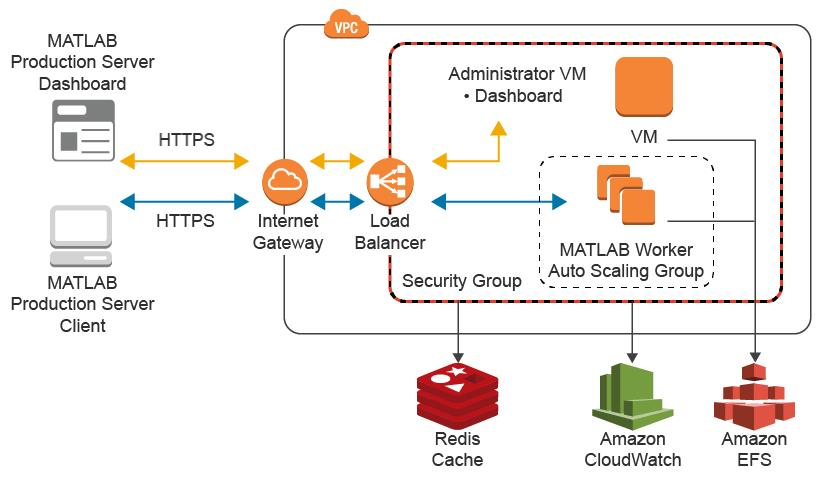Cloud Watch: (589, 358, 678, 431)
EC2: (589, 158, 664, 231)
EFS: (709, 361, 800, 432)
ELB: (365, 154, 418, 208)
Internet: (256, 152, 310, 210)
Redis: (412, 360, 509, 434)
Web Clients: (46, 197, 116, 274)
